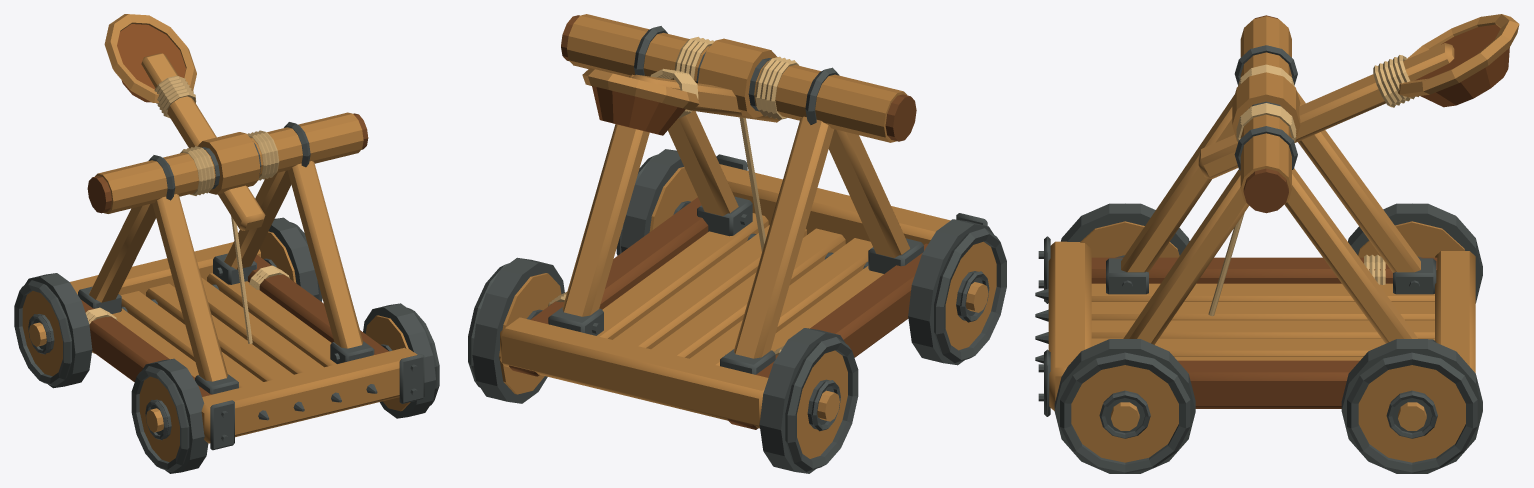
The model's file is catapult_intact.glb.
3 renders of one model, left to right at view 1: azimuth 30°, elevation 25°; view 2: azimuth 150°, elevation 25°; view 3: azimuth 270°, elevation 25°, orthographic. The views are drawn at different scales.
Parts seen in each view (by area): view 1: Catapult_CrossFront, Catapult_TopBar, Catapult_FrontSupport_-1, Catapult_FrontSupport_1, Catapult_LaunchBeam, Catapult_DeckPlank_4, Catapult_DeckPlank_3, Catapult_FrameLeft, Catapult_RearSupport_-1, Catapult_DeckPlank_2, Catapult_FrameRight, Catapult_DeckPlank_1 (+25 smaller); view 2: Catapult_CrossRear, Catapult_TopBar, Catapult_RearSupport_-1, Catapult_RearSupport_1, Catapult_DeckPlank_4, Catapult_FrameLeft, Catapult_DeckPlank_3, Catapult_CrossFront, Catapult_Wheel_3_IronTyre, Catapult_FrameRight, Catapult_DeckPlank_2, Catapult_FrontSupport_-1 (+27 smaller); view 3: Catapult_FrameRight, Catapult_Wheel_1_WoodDisc, Catapult_Wheel_3_WoodDisc, Catapult_RearSupport_1, Catapult_CrossFront, Catapult_FrontSupport_1, Catapult_LaunchBeam, Catapult_DeckPlank_2, Catapult_DeckPlank_1, Catapult_RearSupport_-1, Catapult_TopBar, Catapult_FrontSupport_-1 (+28 smaller).
Part boxes in pixels (left/top/right/bottom): Catapult_CrossFront: left=201, top=347, right=417, bottom=443; Catapult_TopBar: left=95, top=112, right=363, bottom=213; Catapult_FrontSupport_-1: left=152, top=194, right=227, bottom=381; Catapult_FrontSupport_1: left=287, top=161, right=363, bottom=348; Catapult_LaunchBeam: left=141, top=53, right=265, bottom=230; Catapult_DeckPlank_4: left=207, top=273, right=336, bottom=367; Catapult_DeckPlank_3: left=201, top=277, right=323, bottom=374; Catapult_FrameLeft: left=80, top=299, right=212, bottom=396; Catapult_RearSupport_-1: left=89, top=203, right=155, bottom=302; Catapult_DeckPlank_2: left=146, top=283, right=293, bottom=381; Catapult_FrameRight: left=248, top=255, right=388, bottom=355; Catapult_DeckPlank_1: left=121, top=291, right=263, bottom=387; Catapult_CrossRear: left=500, top=317, right=768, bottom=428; Catapult_TopBar: left=567, top=14, right=906, bottom=142; Catapult_RearSupport_-1: left=734, top=116, right=834, bottom=358; Catapult_RearSupport_1: left=562, top=74, right=649, bottom=316; Catapult_DeckPlank_4: left=597, top=213, right=768, bottom=339; Catapult_FrameLeft: left=727, top=243, right=927, bottom=429; Catapult_DeckPlank_3: left=613, top=225, right=806, bottom=349; Catapult_CrossFront: left=719, top=164, right=950, bottom=244; Catapult_Wheel_3_IronTyre: left=472, top=257, right=564, bottom=403; Catapult_FrameRight: left=509, top=197, right=708, bottom=376; Catapult_DeckPlank_2: left=651, top=228, right=845, bottom=358; Catapult_FrontSupport_-1: left=828, top=129, right=909, bottom=257; Catapult_FrameRight: left=1177, top=360, right=1359, bottom=408; Catapult_Wheel_1_WoodDisc: left=1071, top=365, right=1178, bottom=462; Catapult_Wheel_3_WoodDisc: left=1358, top=365, right=1465, bottom=462; Catapult_RearSupport_1: left=1284, top=168, right=1418, bottom=343; Catapult_CrossFront: left=1048, top=241, right=1091, bottom=410; Catapult_FrontSupport_1: left=1123, top=169, right=1249, bottom=344; Catapult_LaunchBeam: left=1198, top=43, right=1454, bottom=178; Catapult_DeckPlank_2: left=1091, top=320, right=1434, bottom=338; Catapult_DeckPlank_1: left=1091, top=302, right=1434, bottom=320; Catapult_RearSupport_-1: left=1297, top=91, right=1420, bottom=272; Catapult_TopBar: left=1240, top=16, right=1291, bottom=207; Catapult_FrontSupport_-1: left=1121, top=95, right=1234, bottom=272.
Bounding box in the file's own units: 3.16 × 3.51 × 4.05.
